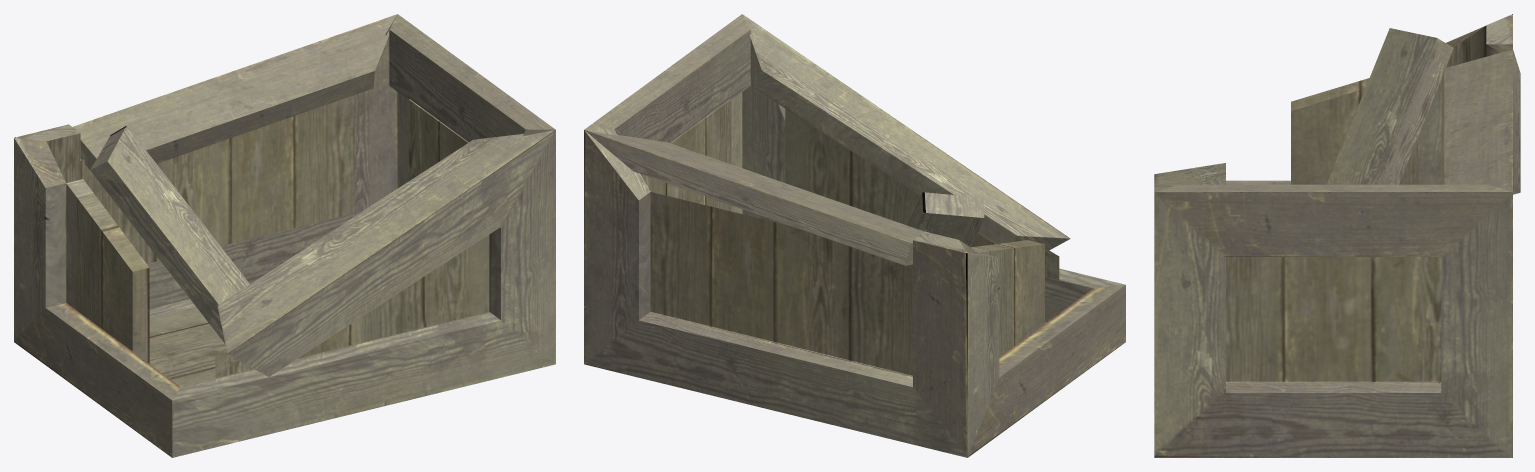
File: brokenCrate.obj
3 renders of one model, left to right at view 1: azimuth 30°, elevation 25°; view 2: azimuth 150°, elevation 25°; view 3: azimuth 270°, elevation 25°, orthographic. The views are drawn at different scales.
Visible parts, largest first — view 1: polySurface15; view 2: polySurface15; view 3: polySurface15.
Boxes of the visible parts, left/top/right/bottom form: polySurface15: left=14, top=14, right=555, bottom=457; polySurface15: left=584, top=14, right=1125, bottom=457; polySurface15: left=1154, top=14, right=1520, bottom=457.
Size of the model in its own units: 1.4 by 0.8177 by 1.02.
Materials: 1 (1 with a texture image).
